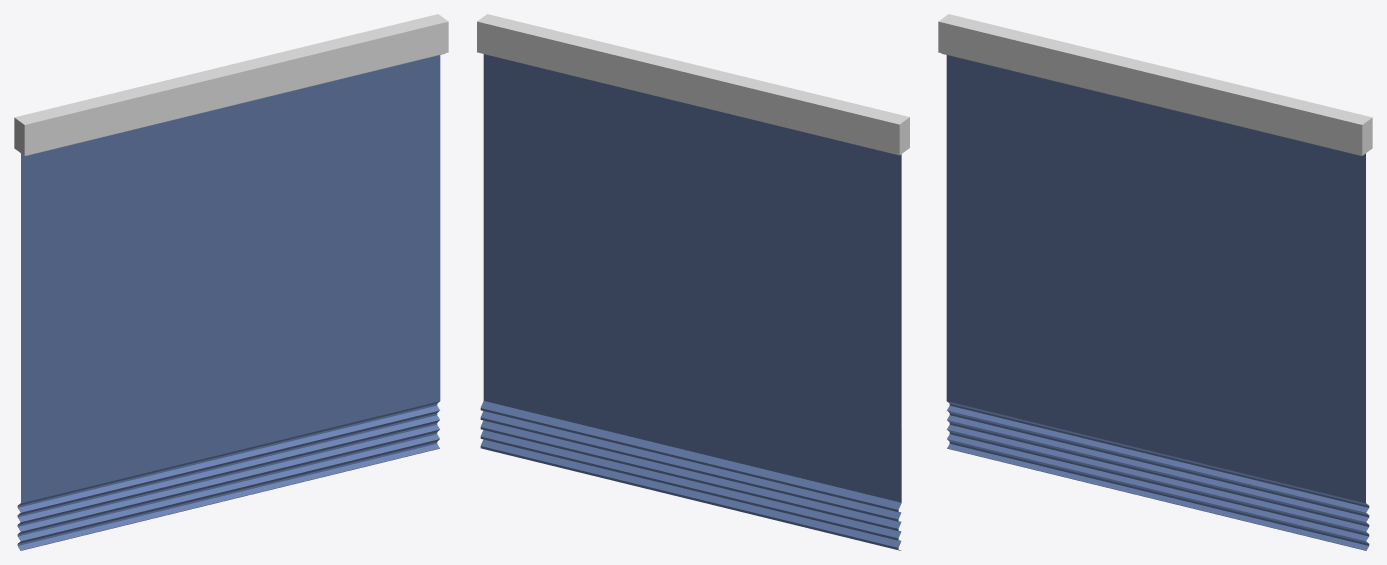
The model's file is shadeBakeNew.glb.
The picture shows the model from 3 angles, left to right: view 1: azimuth 30°, elevation 25°; view 2: azimuth 150°, elevation 25°; view 3: azimuth 330°, elevation 25°; orthographic projection.
Visible parts, largest first — view 1: polySurface1.001, Cube; view 2: polySurface1.001, Cube; view 3: polySurface1.001, Cube.
Part boxes in pixels (x1=…): polySurface1.001: x1=17, y1=55, x2=440, y2=550; Cube: x1=14, y1=14, x2=448, y2=155; polySurface1.001: x1=480, y1=54, x2=901, y2=550; Cube: x1=477, y1=14, x2=909, y2=155; polySurface1.001: x1=946, y1=55, x2=1369, y2=550; Cube: x1=938, y1=14, x2=1372, y2=155.
Bounding box in the file's own units: 47.35 × 46.02 × 2.
